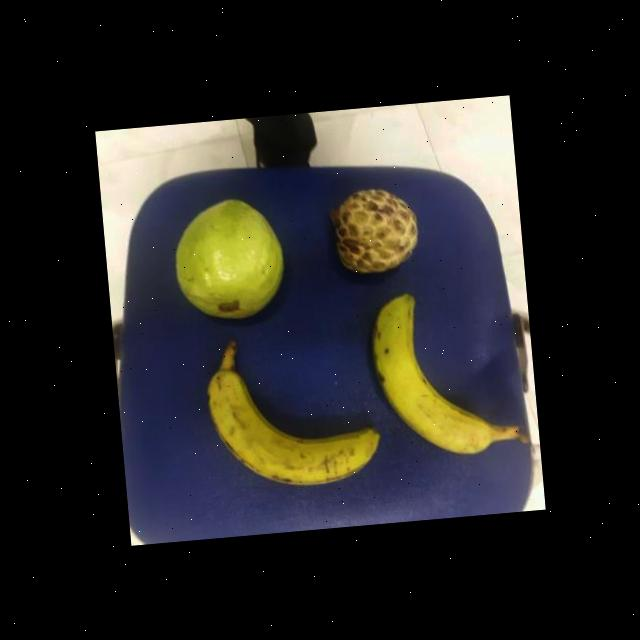Sakya fruit: (322, 184, 419, 278)
banana: (195, 346, 382, 490), (361, 287, 494, 462)
guava: (161, 197, 287, 323), (324, 186, 419, 276)
